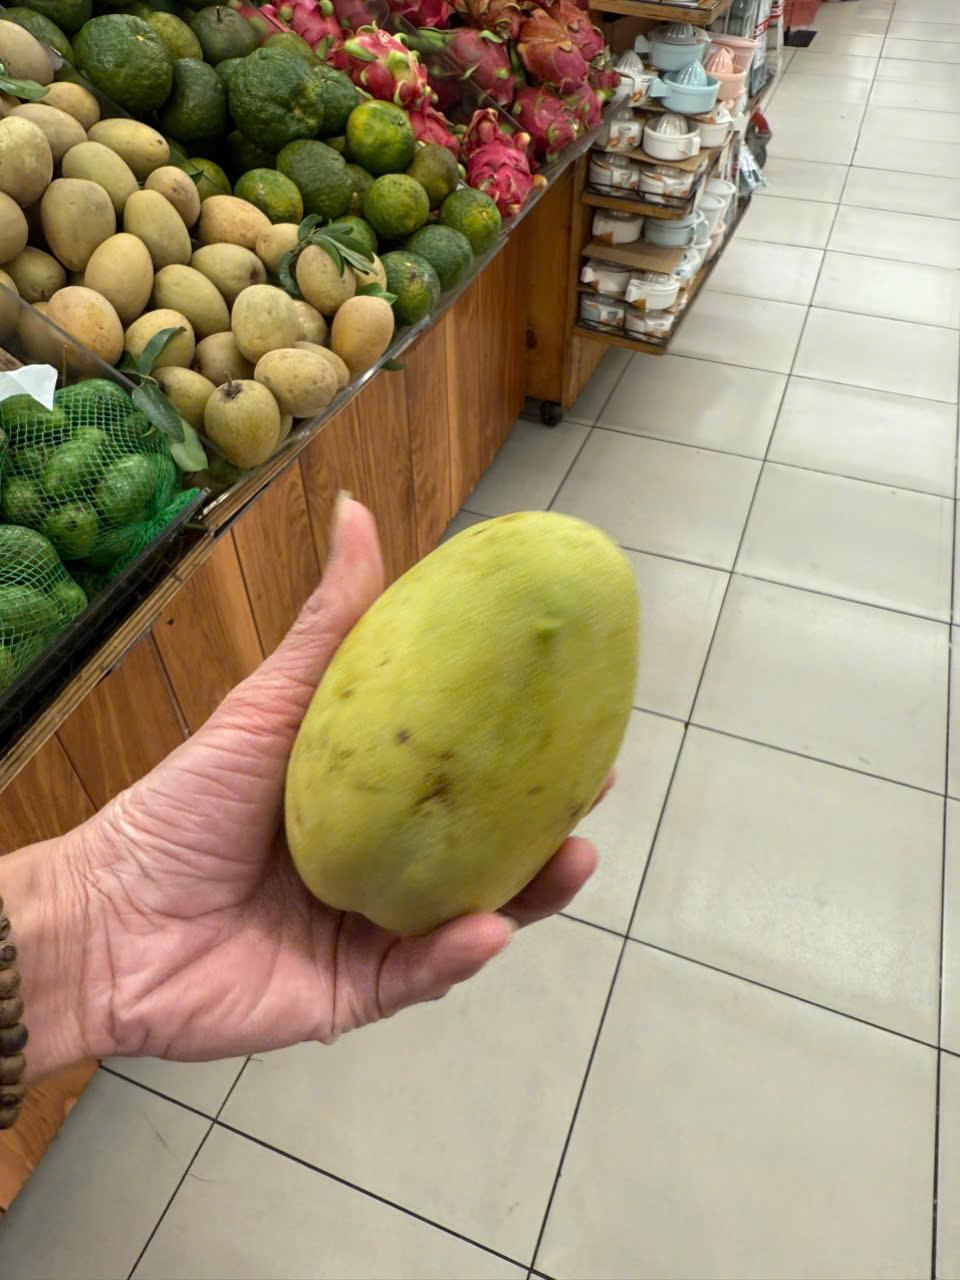mango: (272, 506, 632, 946)
